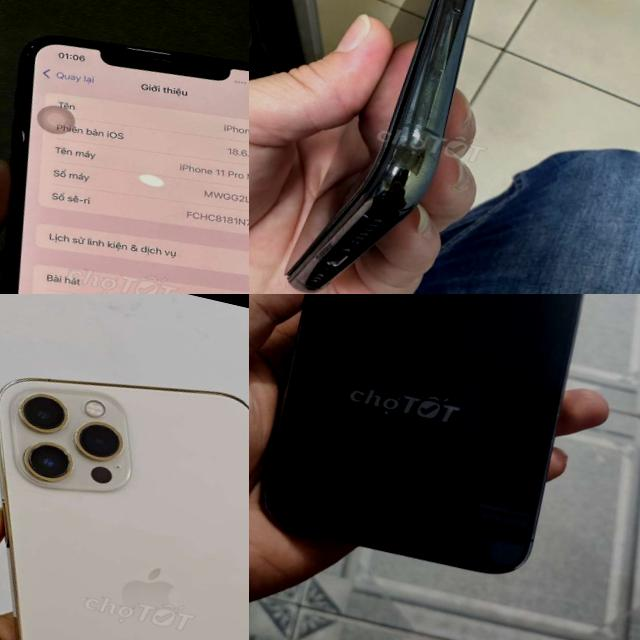gen_11: (277, 0, 527, 294), (0, 2, 249, 294)
gen_12_13: (0, 378, 249, 640)
gen_14: (249, 294, 631, 598)
